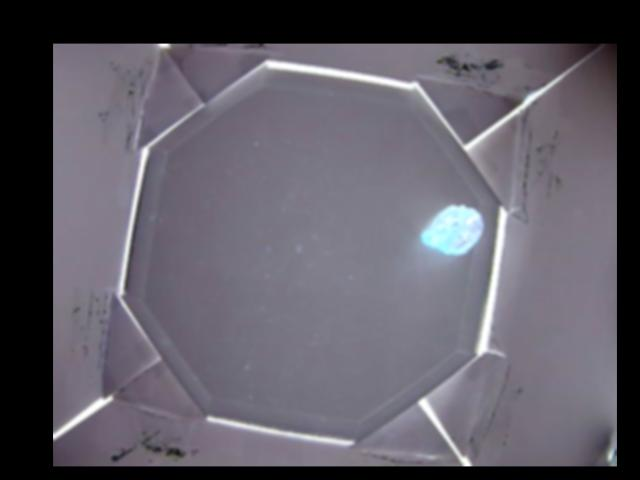Brisk: (423, 203, 480, 257)
